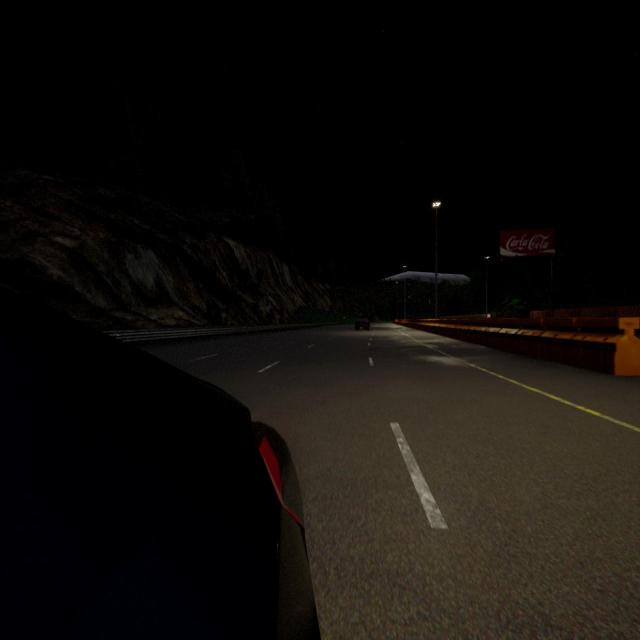Traffic_Signs: (487, 313, 491, 318), (343, 316, 346, 320)
Vehicle: (0, 288, 319, 640), (354, 318, 370, 331)
